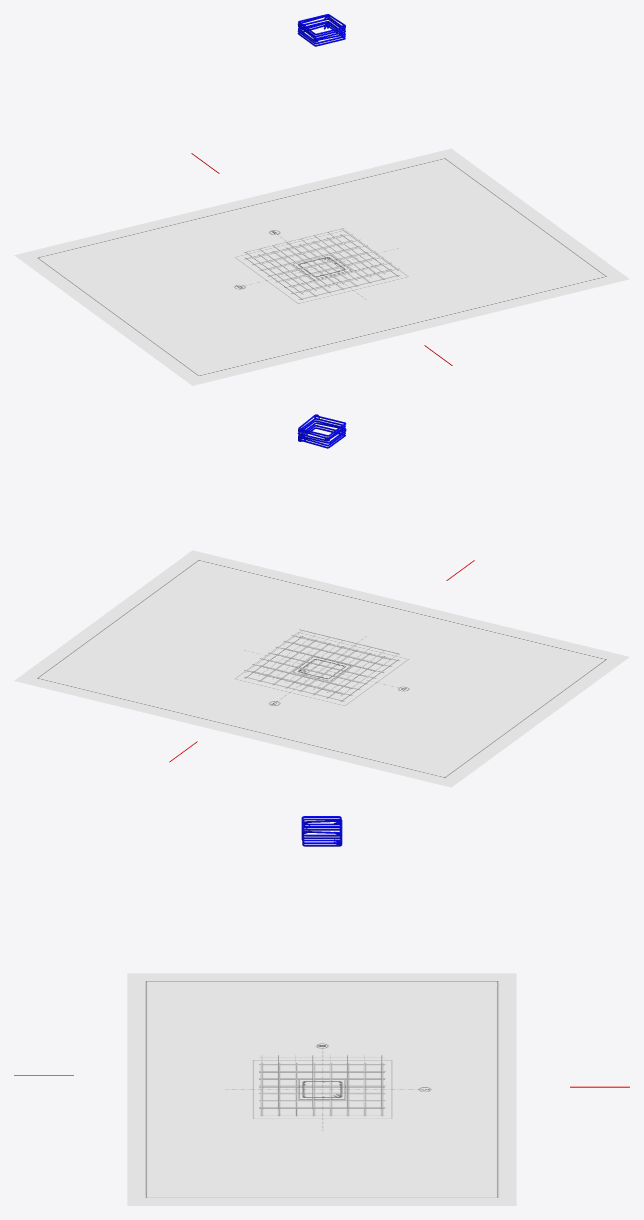
The model's file is 02フープ.glb.
3 renders of one model, top to bottom at view 1: azimuth 30°, elevation 25°; view 2: azimuth 150°, elevation 25°; view 3: azimuth 270°, elevation 25°, orthographic. The views are drawn at different scales.
Visible parts, largest first — view 1: 平面, 1360.012; view 2: 平面, 1360.012; view 3: 平面, 1360.012.
Boxes of the visible parts, bbox=[...] form: 平面: bbox=[14, 148, 629, 385]; 1360.012: bbox=[244, 227, 399, 294]; 平面: bbox=[14, 550, 629, 787]; 1360.012: bbox=[244, 629, 399, 695]; 平面: bbox=[127, 973, 516, 1205]; 1360.012: bbox=[259, 1055, 384, 1108].
Size of the model in its own units: 5940 by 3175 by 6648.
5 materials, 1 textured.
